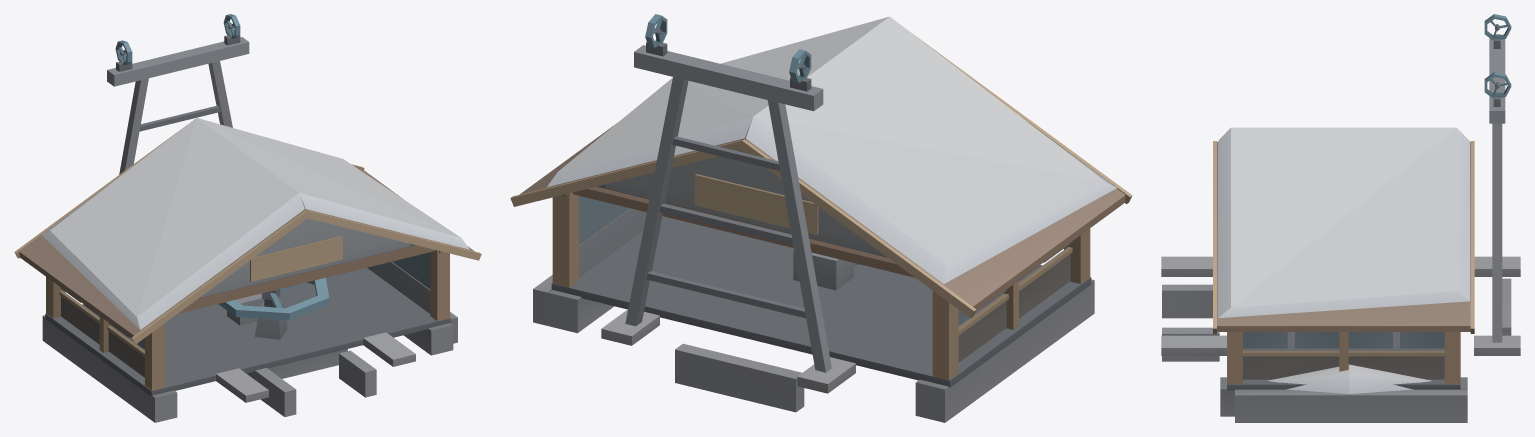
3 views of the same model, side by side, from view 1: azimuth 30°, elevation 25°; view 2: azimuth 150°, elevation 25°; view 3: azimuth 270°, elevation 25° (orthographic). The views are drawn at different scales.
Size of the model in its own units: 15.15 by 11.05 by 12.3.
